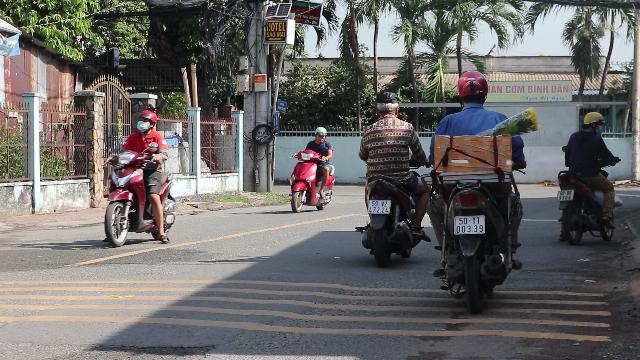helmet: (454, 71, 490, 108), (134, 110, 156, 132), (580, 112, 604, 132)
licenseplate: (454, 216, 484, 234), (368, 199, 390, 213), (557, 190, 573, 200)
motorcyclist: (424, 70, 528, 304), (354, 92, 431, 264), (100, 109, 178, 248), (554, 110, 620, 244)
nohelmet: (374, 92, 400, 120)
